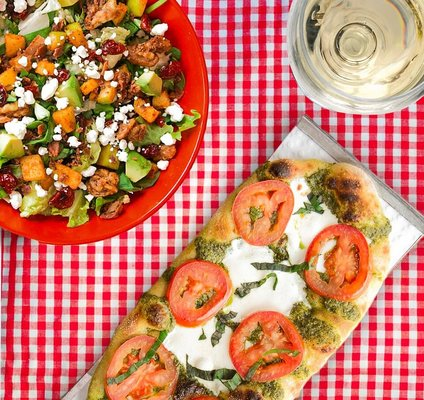pizza: (288, 0, 424, 114)
sushi: (0, 0, 211, 247)
